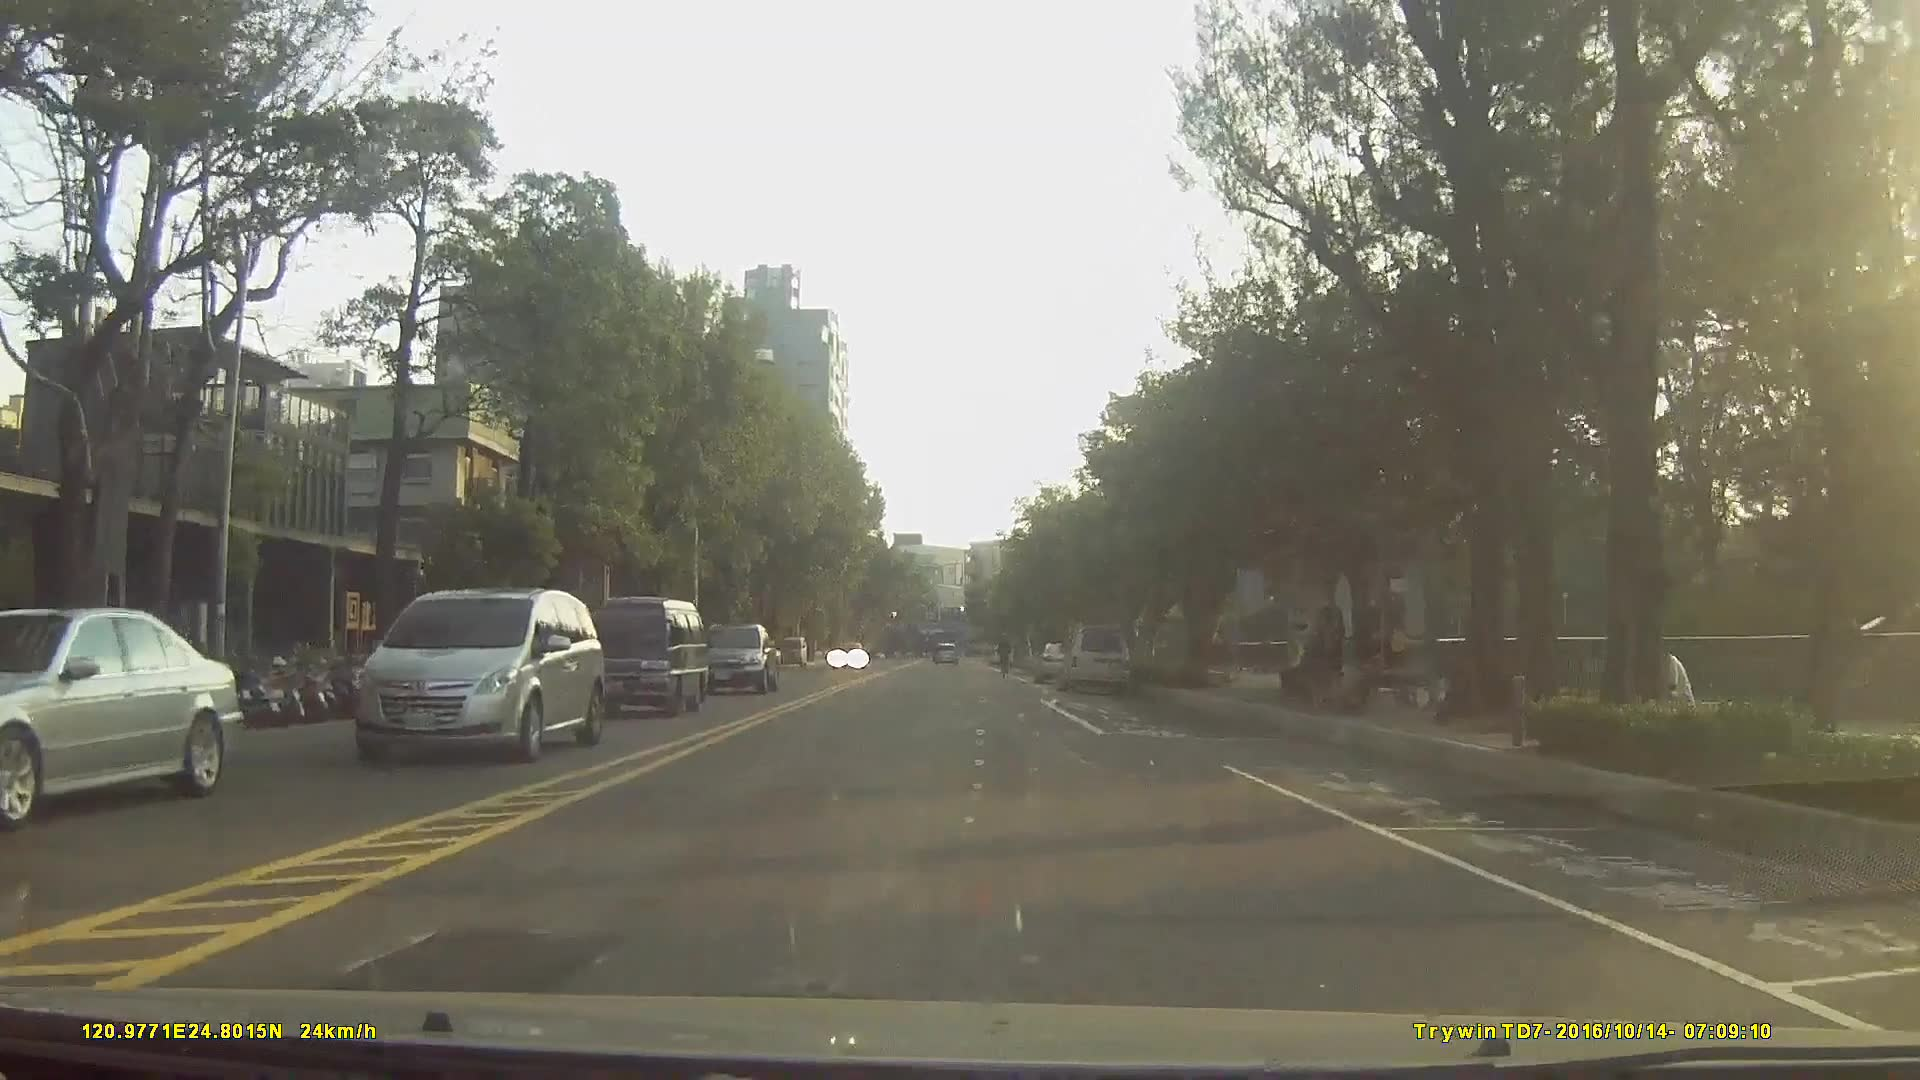pedestrian: (1278, 616, 1319, 703)
rider: (996, 631, 1016, 678)
vehicle: (0, 603, 242, 831), (349, 585, 604, 764), (578, 592, 711, 712), (693, 621, 781, 692), (1057, 621, 1132, 691), (1034, 637, 1083, 681), (828, 636, 866, 667), (775, 632, 809, 666), (933, 640, 961, 666)
